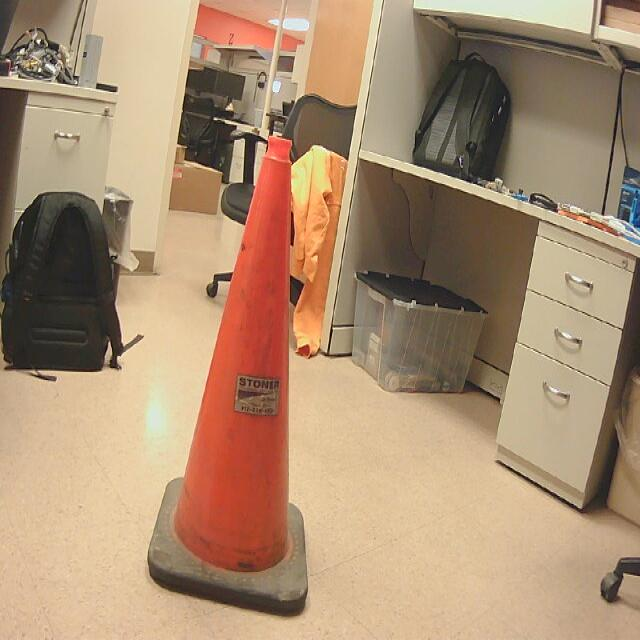traffic cone: (148, 138, 311, 620)
